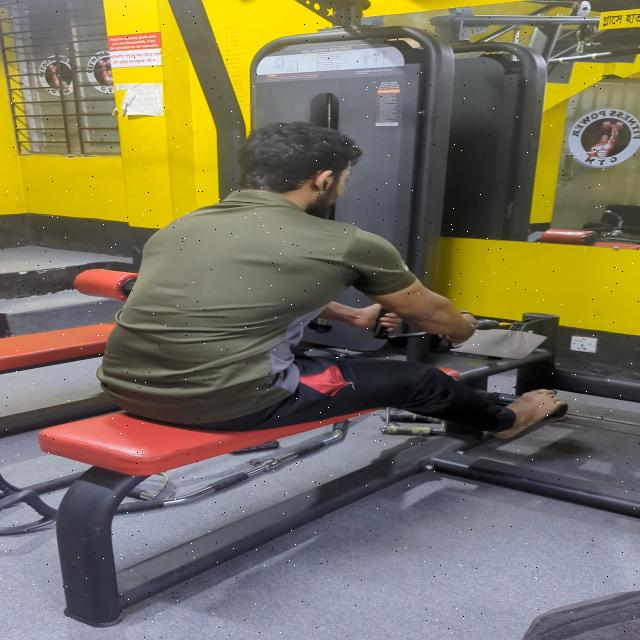Normal_RowingMachineExercise: (7, 100, 640, 520)
